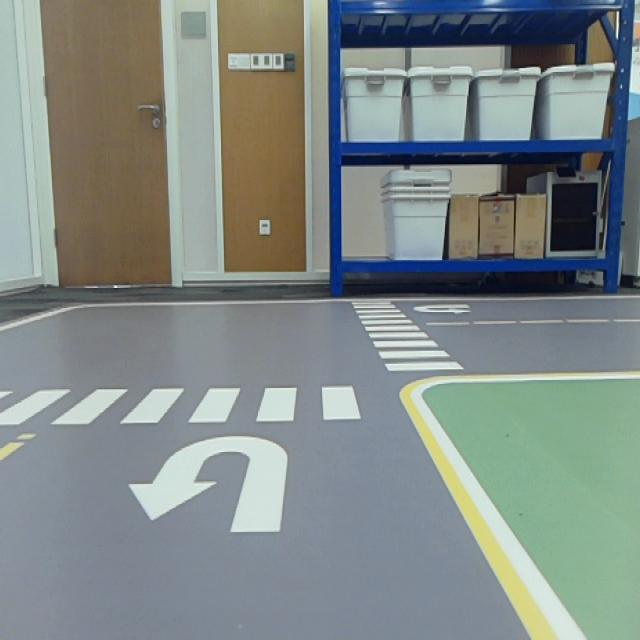left_lane: (0, 432, 37, 465)
right_lane: (400, 395, 557, 640), (2, 306, 65, 331)
